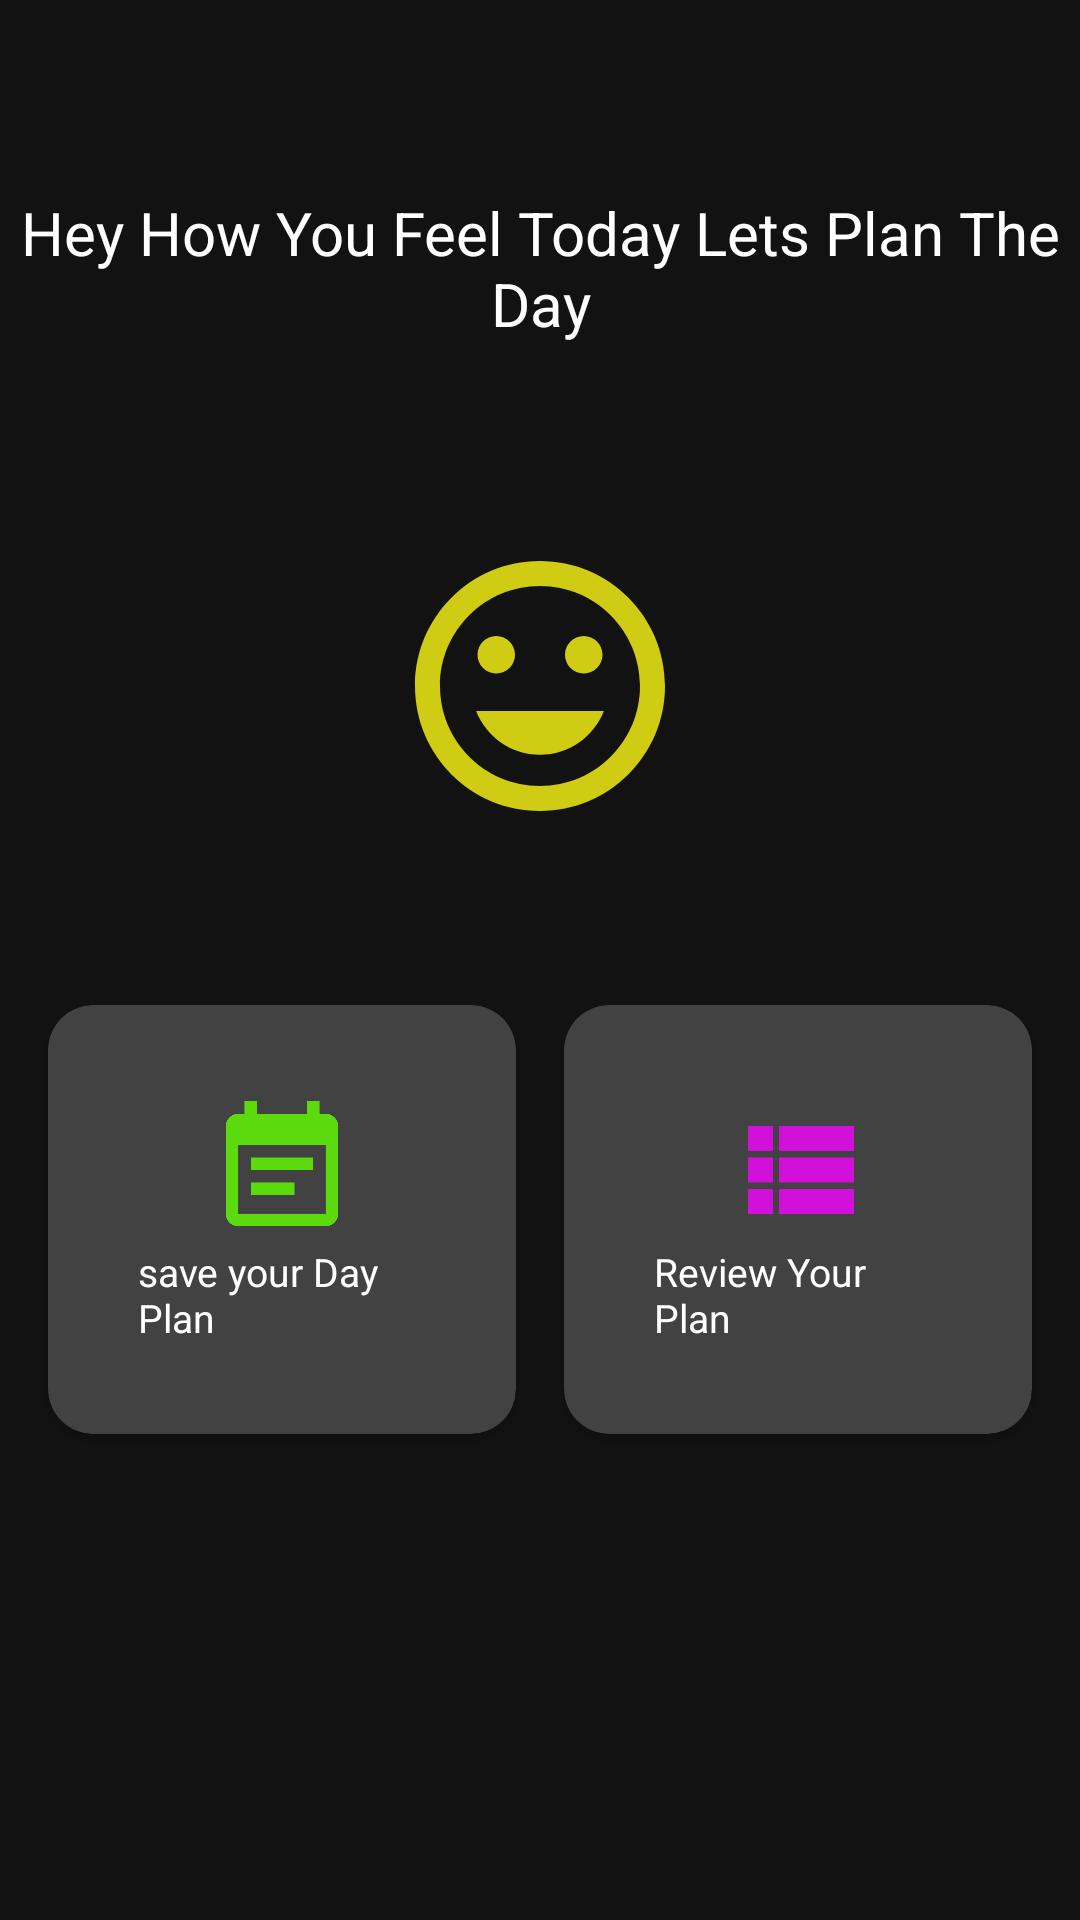

Point at icon controls on the screen. Image size 1080px x 1920px, points as [x,y].
emoji: [540,686]
note: [282,1163]
